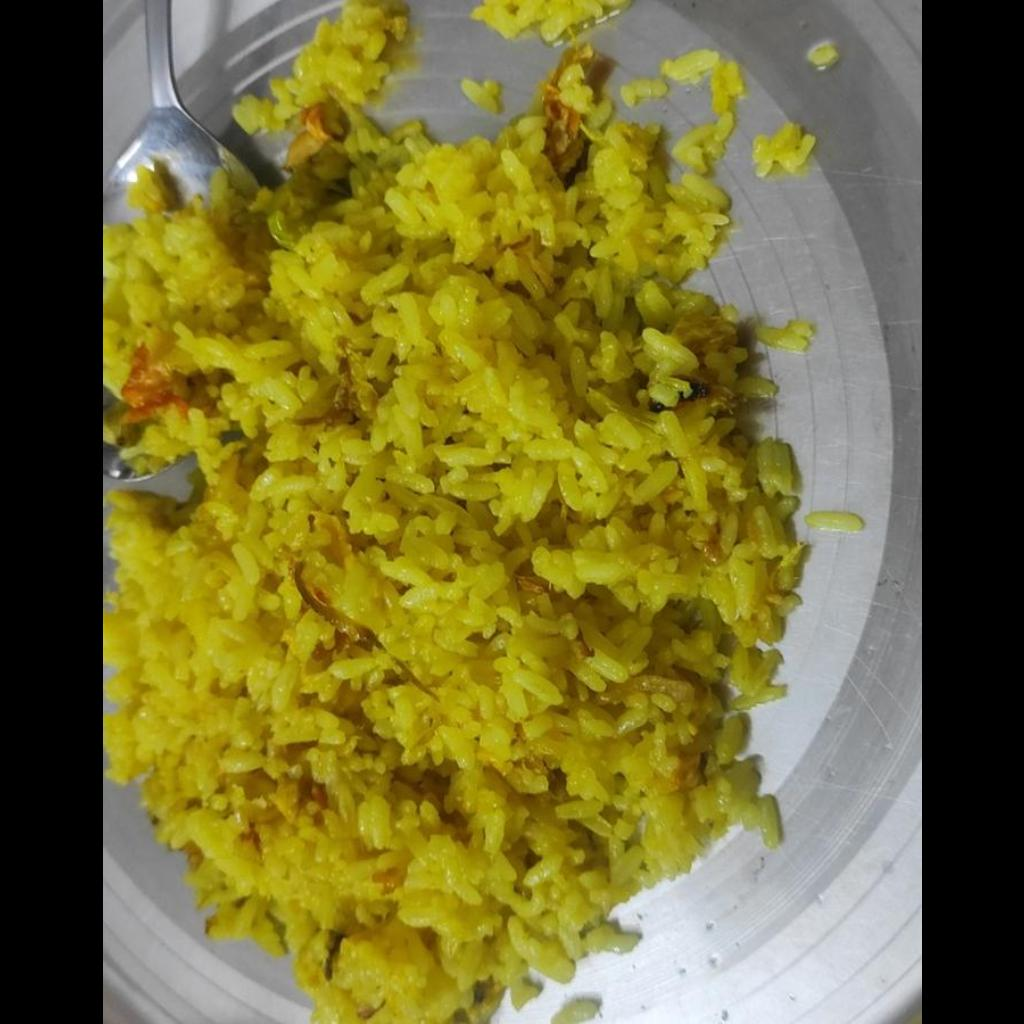khichuri: (103, 4, 816, 1023)
